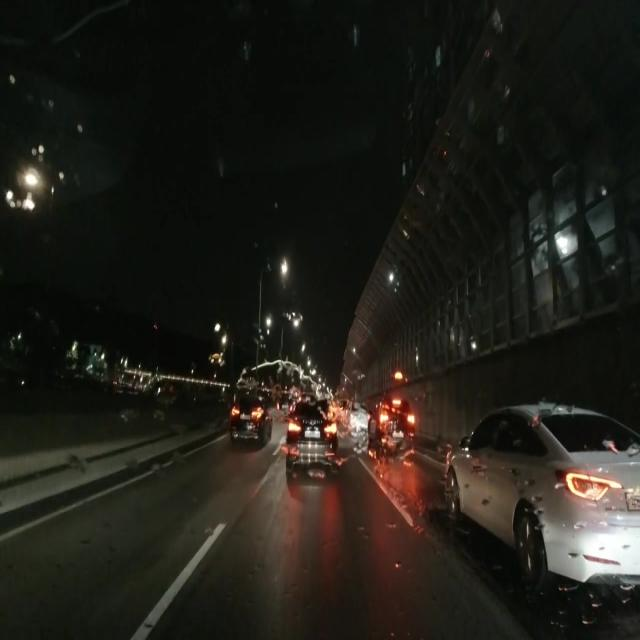Car: (441, 402, 639, 595), (284, 397, 333, 471), (366, 398, 410, 456), (228, 393, 269, 446)
